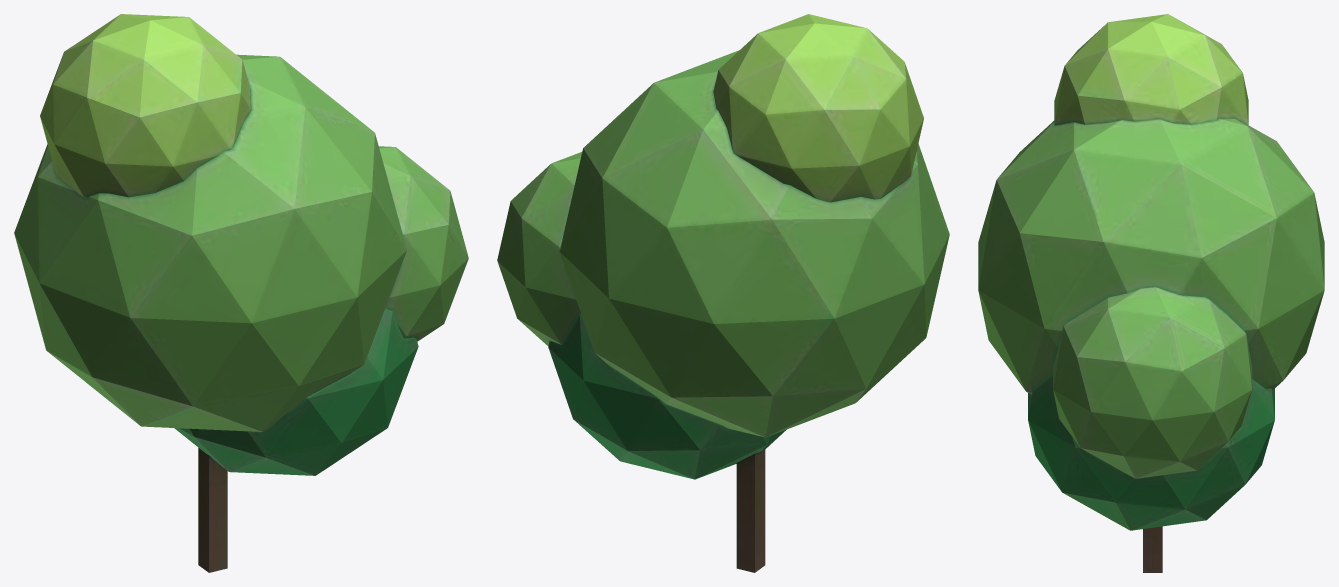
The model's file is Tree_poly03.gltf.
3 views of the same model, side by side, from view 1: azimuth 30°, elevation 25°; view 2: azimuth 150°, elevation 25°; view 3: azimuth 270°, elevation 25° (orthographic). The views are drawn at different scales.
Parts seen in each view (by area): view 1: metalTree_poly03; view 2: metalTree_poly03; view 3: metalTree_poly03.
Part boxes in pixels (x1,y1,x2,y2): metalTree_poly03: (14, 14, 468, 572); metalTree_poly03: (497, 14, 949, 572); metalTree_poly03: (978, 14, 1324, 572).
Bounding box in the file's own units: 53.92 × 69.76 × 42.25.
Materials: 1 (1 with a texture image).
